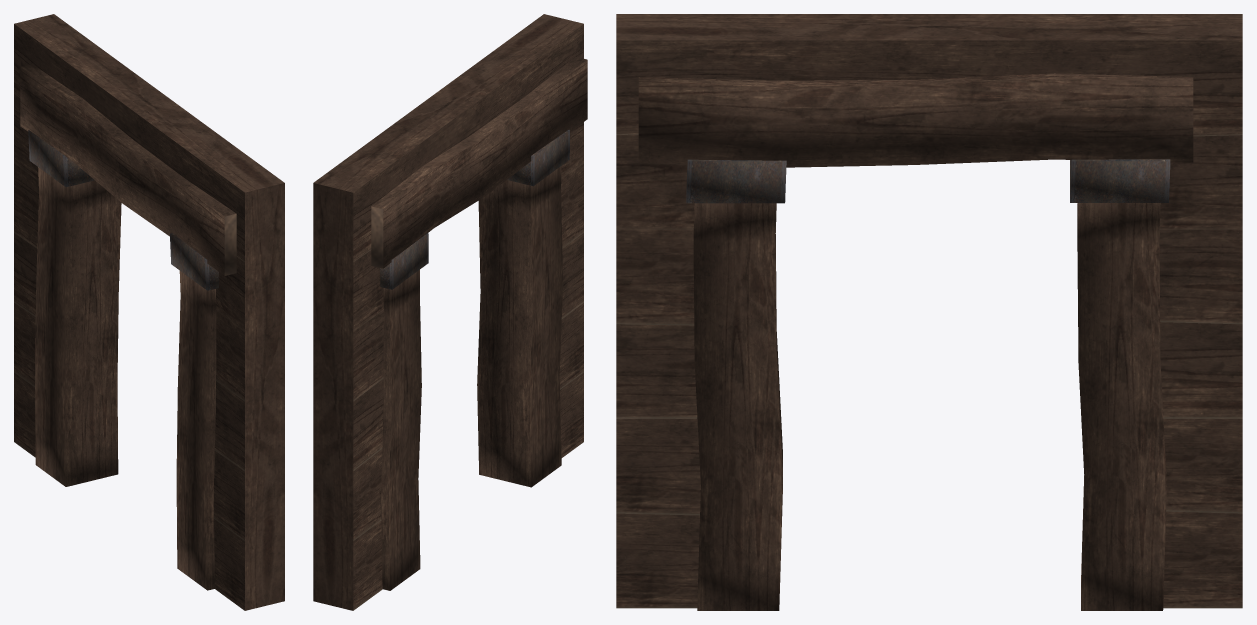
Rendered from Doorway.fbx.
3 views of the same model, side by side, from view 1: azimuth 30°, elevation 25°; view 2: azimuth 150°, elevation 25°; view 3: azimuth 270°, elevation 25° (orthographic). The views are drawn at different scales.
Parts seen in each view (by area): view 1: Cube.004; view 2: Cube.004; view 3: Cube.004.
Part boxes in pixels (left/top/right/bottom): Cube.004: left=14, top=14, right=284, bottom=610; Cube.004: left=313, top=14, right=587, bottom=610; Cube.004: left=616, top=14, right=1242, bottom=610.
Size of the model in its own units: 0.8012 by 5 by 5.
